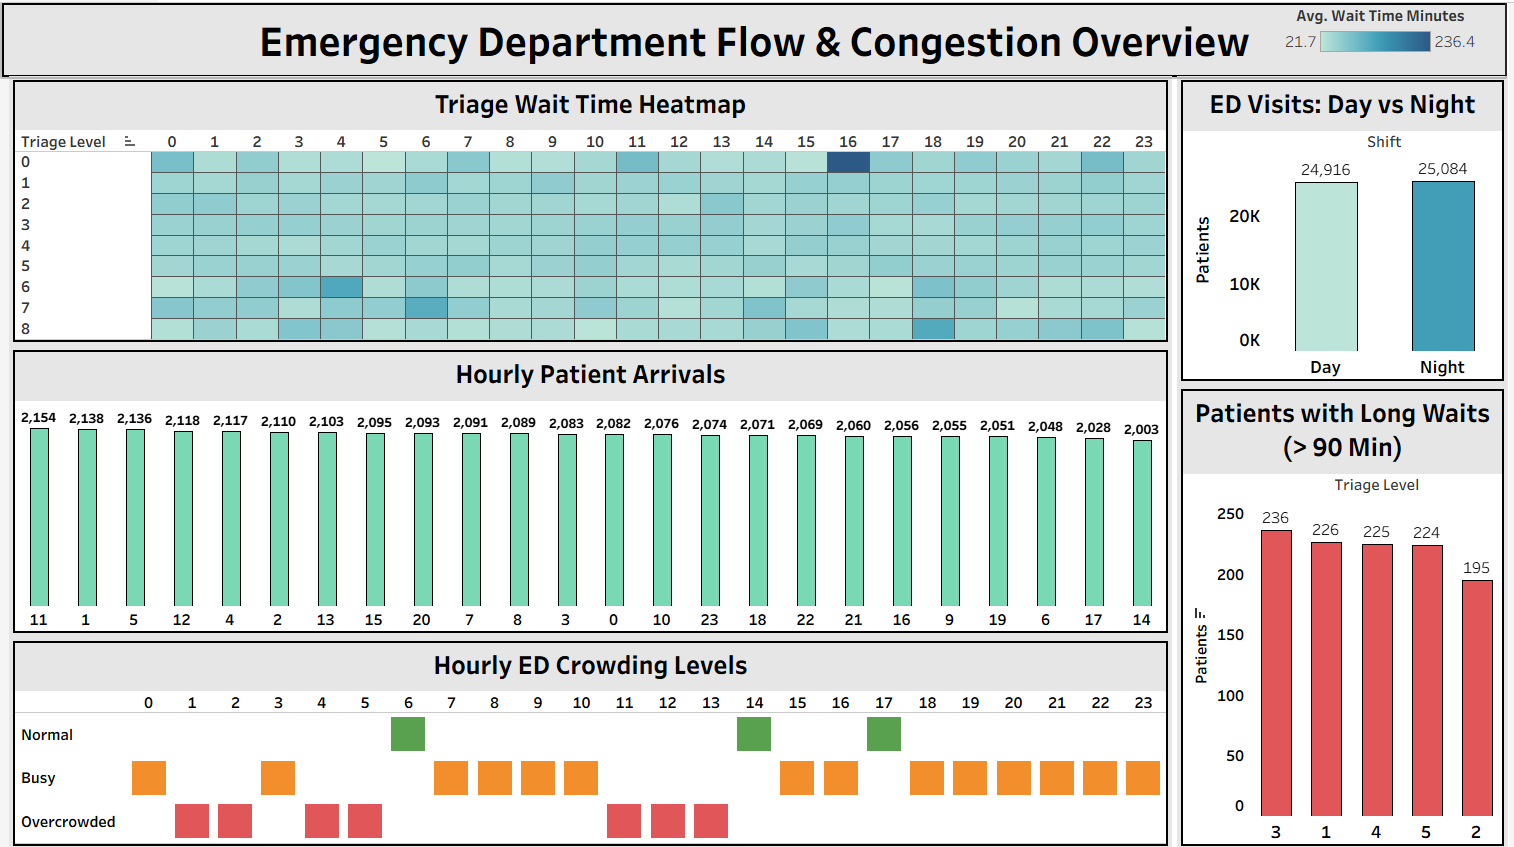

The page's visual inventory and layout, read from the dashboard file:
{"tool":"tableau","page":{"name":"ED Flow & Congestion Analysis","canvas":[1000,1000],"units":"permille","ordinal":0},"visuals":[{"type":"text","box":[0,0,998.7,87.1]},{"type":"legend","title":"Heatmap_Crowd_Level","param":"[federated.0bbzjgp0pxakkq13nrfku0nv0wpo].[avg:wait_time_minutes:qk]","box":[848,2.4,132.7,85.9]},{"type":"worksheet","title":"Heatmap_Crowd_Level","mark":"Square","rows":["triage_level"],"cols":["Calculation_397442678747283458"],"box":[0,100,775.3,317.7]},{"type":"worksheet","title":"Chart_Day_vs_Night","mark":"Bar","rows":["patient_id"],"cols":["Calculation_397442678749753347"],"box":[778.7,132.9,218.7,363.5]},{"type":"worksheet","title":"Chart_Hourly_Arrivals","mark":"Bar","rows":["patient_id"],"cols":["arrival_hour"],"box":[0,417.7,775.3,342.4]},{"type":"worksheet","title":"Chart_Long_Wait","mark":"Bar","rows":["patient_id"],"cols":["triage_level"],"box":[778.7,496.5,218.7,481.2]},{"type":"worksheet","title":"Chart_Crowding_Category","mark":"Square","rows":["Calculation_397442678753898501"],"cols":["Calculation_397442678747283458"],"box":[0,760,775.3,237.6]}]}

Visuals, with their boxes on the dashboard's canvas, which has no fixed pixel size, in thousandths of its width and height (x1, y1, x2, y2). These are canvas units, not pixel positions in the 1514x847 screenshot, which may show the page scaled, cropped or inside an application window:
text: bbox(0, 0, 999, 87)
"Heatmap_Crowd_Level" legend: bbox(848, 2, 981, 88)
"Heatmap_Crowd_Level" worksheet (Square marks): bbox(0, 100, 775, 418)
"Chart_Day_vs_Night" worksheet (Bar marks): bbox(779, 133, 997, 496)
"Chart_Hourly_Arrivals" worksheet (Bar marks): bbox(0, 418, 775, 760)
"Chart_Long_Wait" worksheet (Bar marks): bbox(779, 496, 997, 978)
"Chart_Crowding_Category" worksheet (Square marks): bbox(0, 760, 775, 998)
